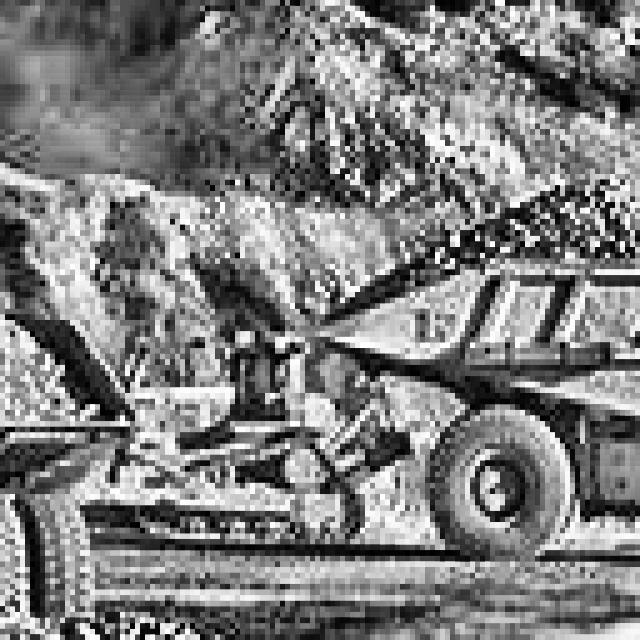dump_truck: (315, 135, 640, 572), (0, 196, 130, 640)
